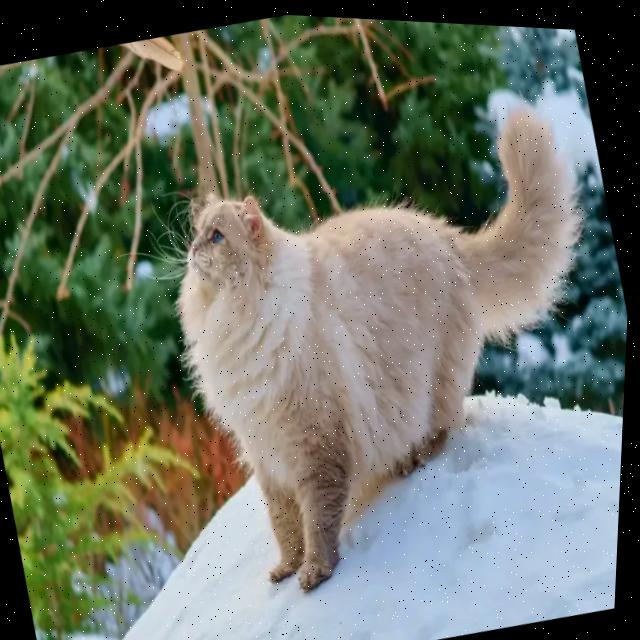Neva Masquerade: (129, 67, 638, 626)
